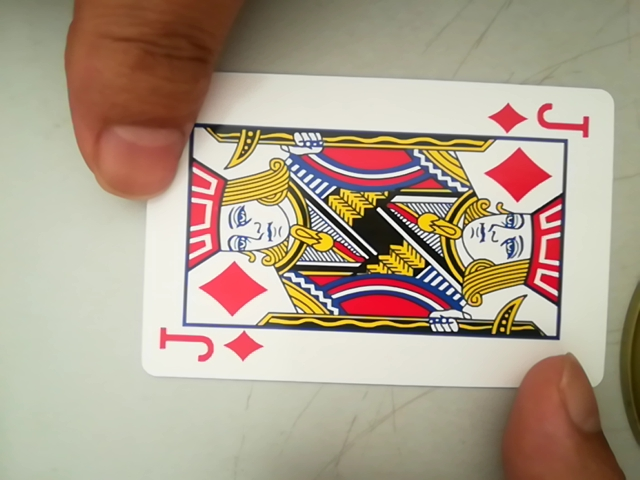fk j: (150, 324, 268, 370), (491, 99, 594, 139)
